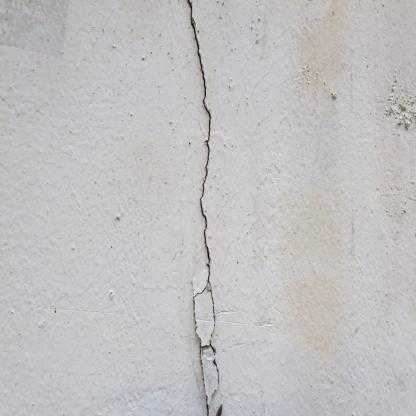crack: (187, 0, 220, 413)
